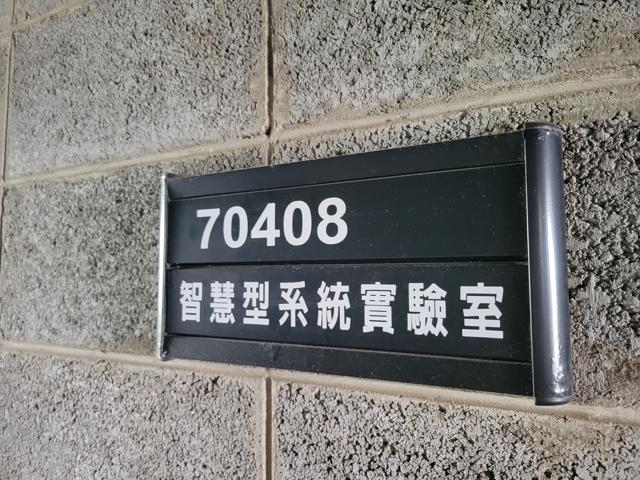doorplate: (142, 115, 582, 416)
